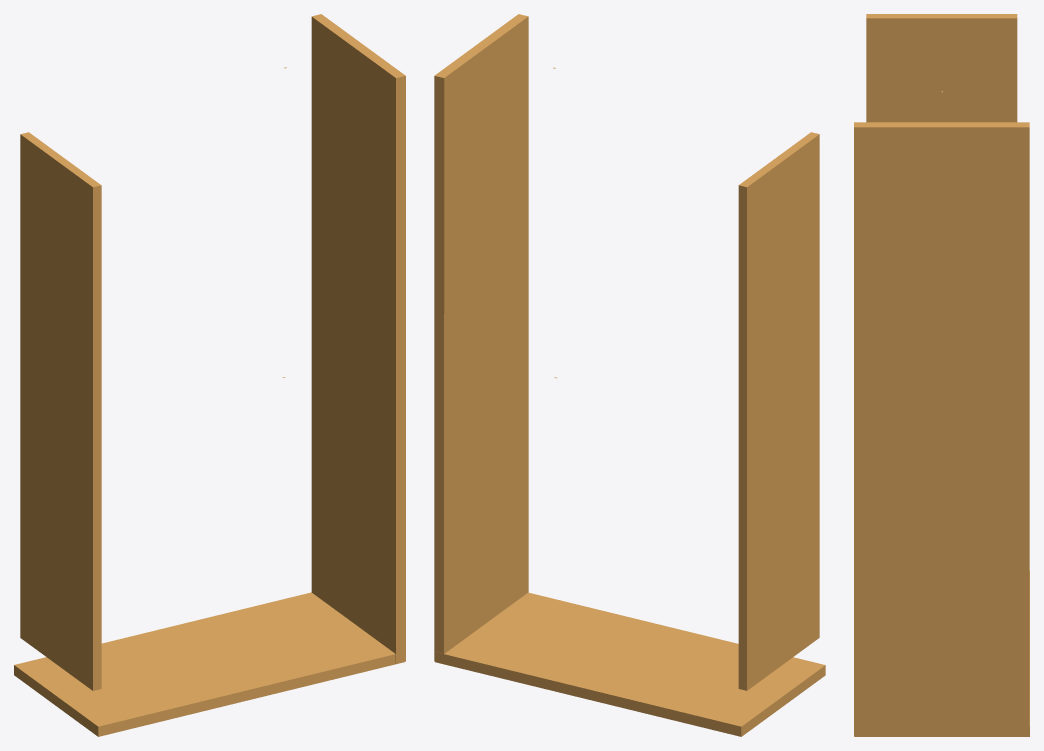
File: shelfanim55.fbx
3 renders of one model, left to right at view 1: azimuth 30°, elevation 25°; view 2: azimuth 150°, elevation 25°; view 3: azimuth 270°, elevation 25°, orthographic. The views are drawn at different scales.
Visible parts, largest first — view 1: Cube.001, Cube, Cube.002; view 2: Cube.001, Cube, Cube.002; view 3: Cube.001, Cube, Cube.002.
Boxes of the visible parts, x1=… form: Cube.001: x1=311, y1=14, x2=405, y2=663; Cube: x1=20, y1=132, x2=101, y2=690; Cube.002: x1=14, y1=592, x2=404, y2=736; Cube.001: x1=434, y1=14, x2=528, y2=661; Cube: x1=738, y1=132, x2=819, y2=690; Cube.002: x1=435, y1=592, x2=825, y2=736; Cube.001: x1=854, y1=122, x2=1029, y2=736; Cube: x1=866, y1=14, x2=1017, y2=122; Cube.002: x1=855, y1=571, x2=1029, y2=736.
Bounding box in the file's own units: 207 × 377 × 98.36.
